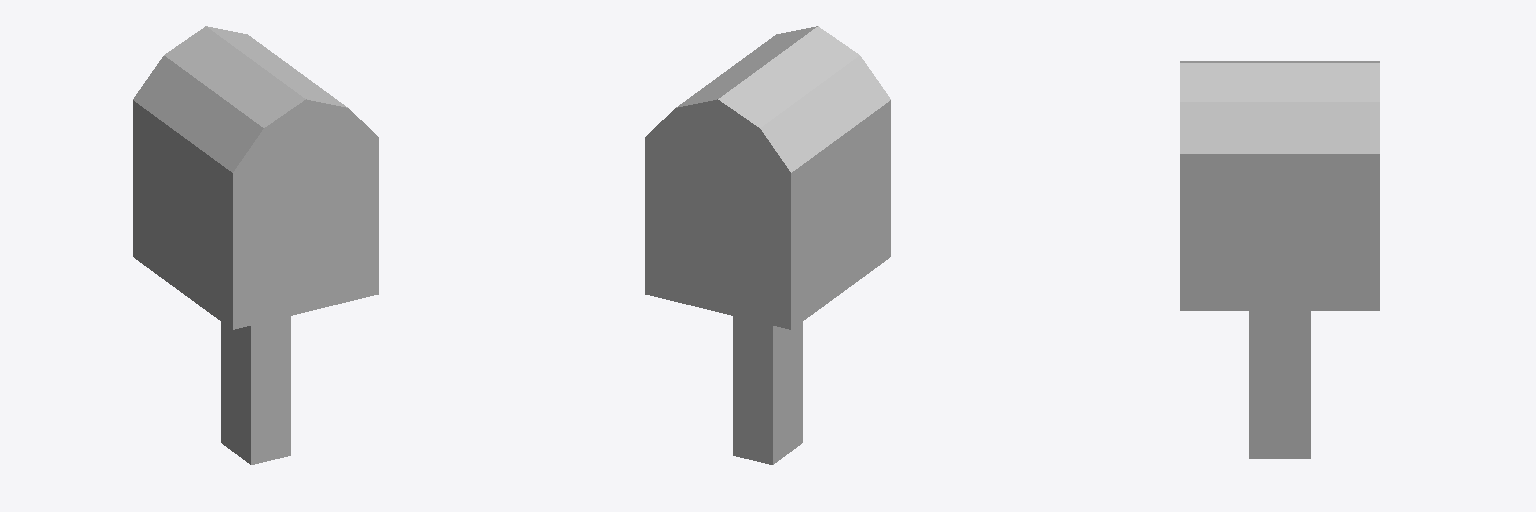
File: mailbox.obj
The picture shows the model from 3 angles: view 1: azimuth 30°, elevation 25°; view 2: azimuth 150°, elevation 25°; view 3: azimuth 270°, elevation 25°; orthographic projection.
Parts seen in each view (by area): view 1: Mailbox_board_a, Mailbox_Post_board_b; view 2: Mailbox_board_a, Mailbox_Post_board_b; view 3: Mailbox_board_a, Mailbox_Post_board_b.
Part boxes in pixels (left/top/right/bottom): Mailbox_board_a: left=133, top=26, right=378, bottom=329; Mailbox_Post_board_b: left=221, top=316, right=290, bottom=464; Mailbox_board_a: left=645, top=26, right=890, bottom=329; Mailbox_Post_board_b: left=733, top=316, right=802, bottom=464; Mailbox_board_a: left=1180, top=61, right=1379, bottom=310; Mailbox_Post_board_b: left=1249, top=311, right=1310, bottom=458.
Size of the model in its own units: 11 by 27.7 by 13.